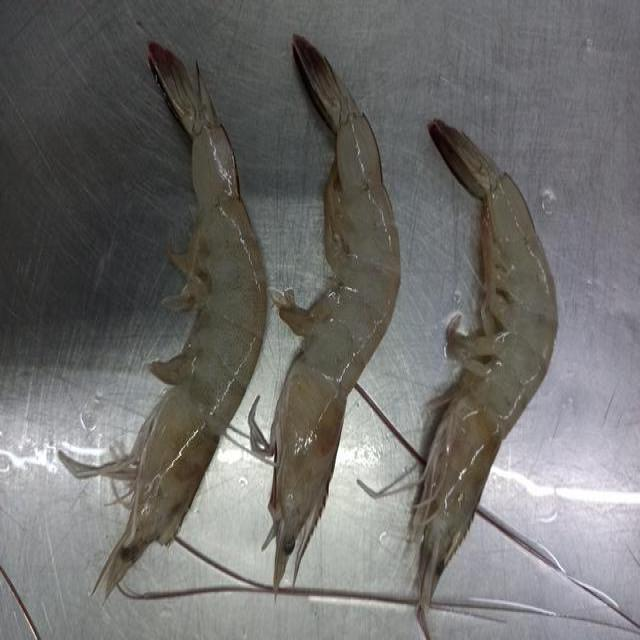shrimp: (58, 43, 266, 597), (250, 36, 400, 588), (411, 121, 558, 635)
